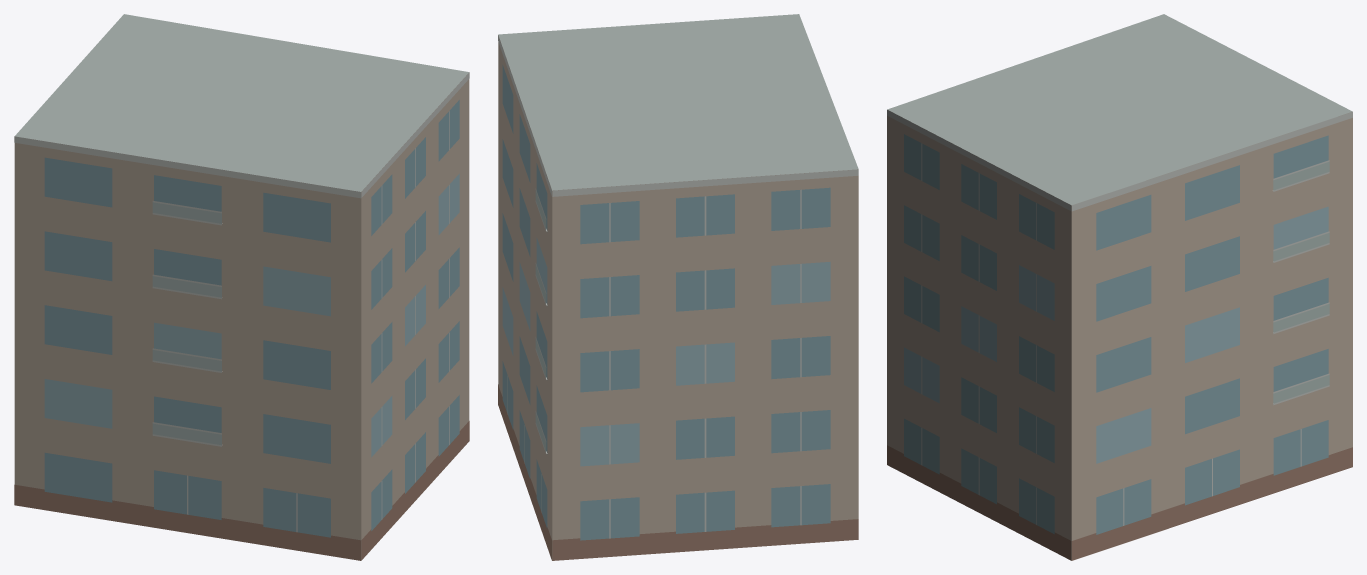
The model's file is survey-upis-32932242.glb.
The picture shows the model from 3 angles, left to right: view 1: azimuth 30°, elevation 25°; view 2: azimuth 150°, elevation 25°; view 3: azimuth 270°, elevation 25°; orthographic projection. The views are drawn at different scales.
Parts seen in each view (by area): view 1: survey-upis-32932242.tmp; view 2: survey-upis-32932242.tmp; view 3: survey-upis-32932242.tmp.
Part boxes in pixels (x1,y1,x2,y2): survey-upis-32932242.tmp: [14, 14, 469, 560]; survey-upis-32932242.tmp: [498, 14, 858, 560]; survey-upis-32932242.tmp: [887, 14, 1352, 560].
Size of the model in its own units: 16.29 by 14.1 by 16.75.
